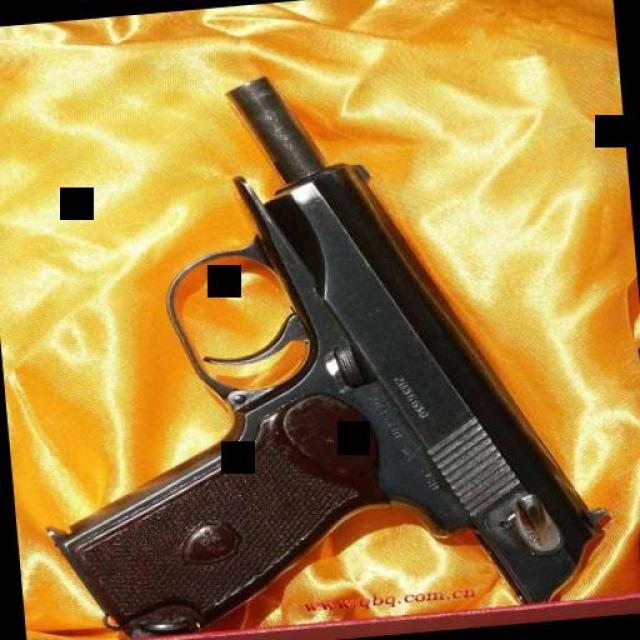gun: (12, 45, 612, 640)
